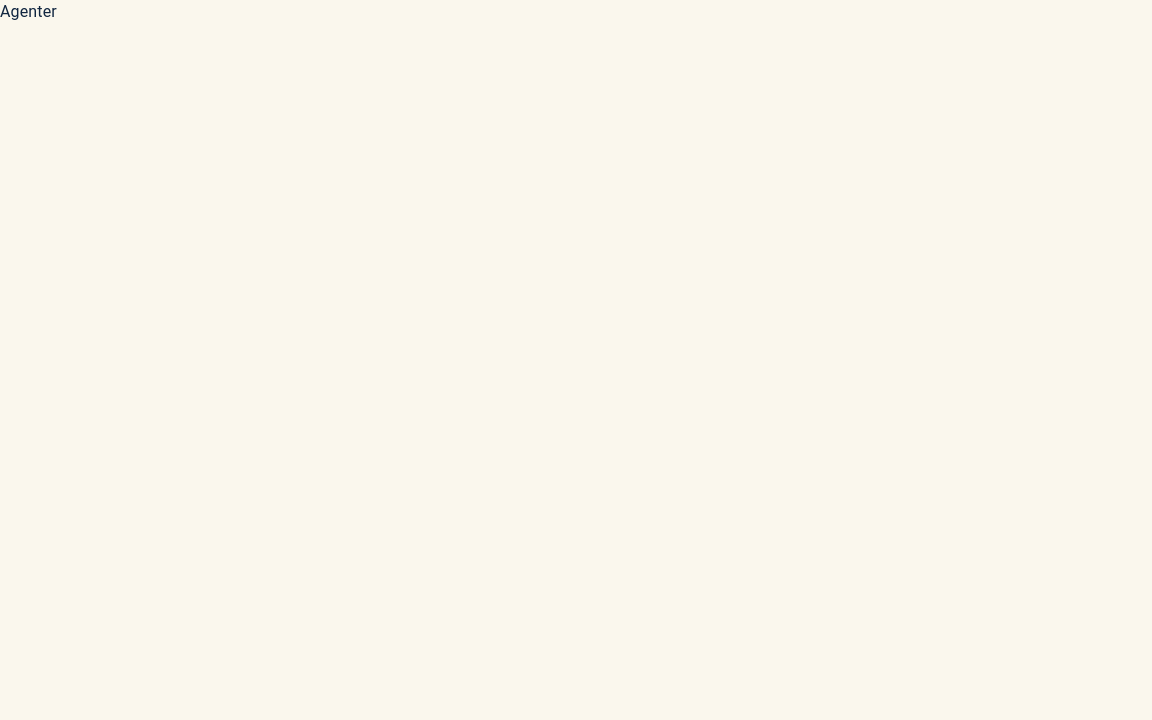
Test: LeaveWizardGuard › asks before a link leaves the wizard, and Avbryt stays
This screenshot has width=1152, height=720.
Click the link "Agenter". click: x=28, y=12
box: [0,2,57,21]
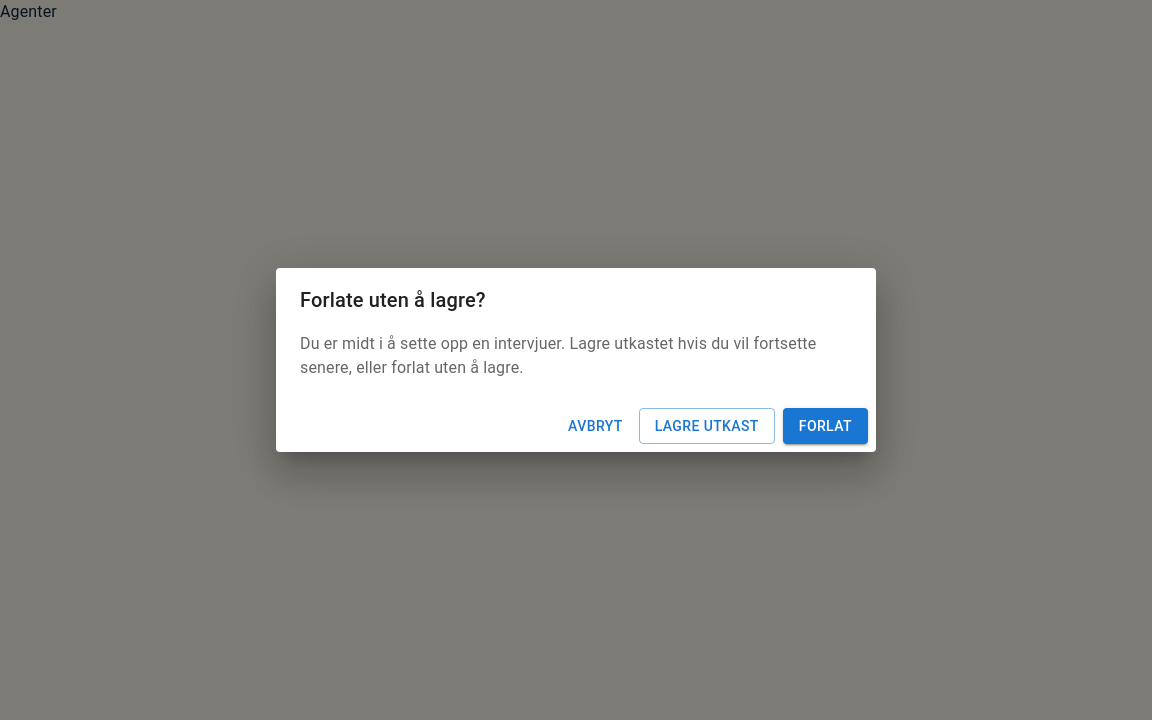
expect the dialog "Forlate uten å lagre?" shows "Lagre utkastet": met, box [300,334,816,377]
Click the button "Avbryt". click: x=595, y=426
box: [560,408,631,444]
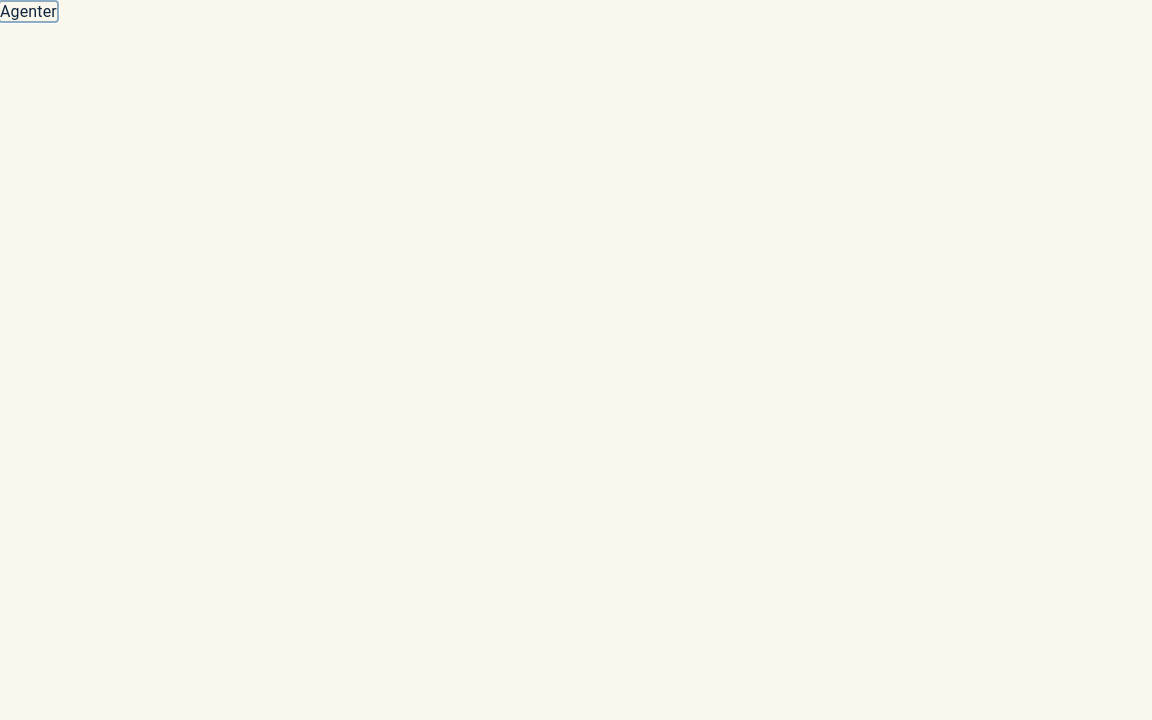
expect the dialog is gone: met
